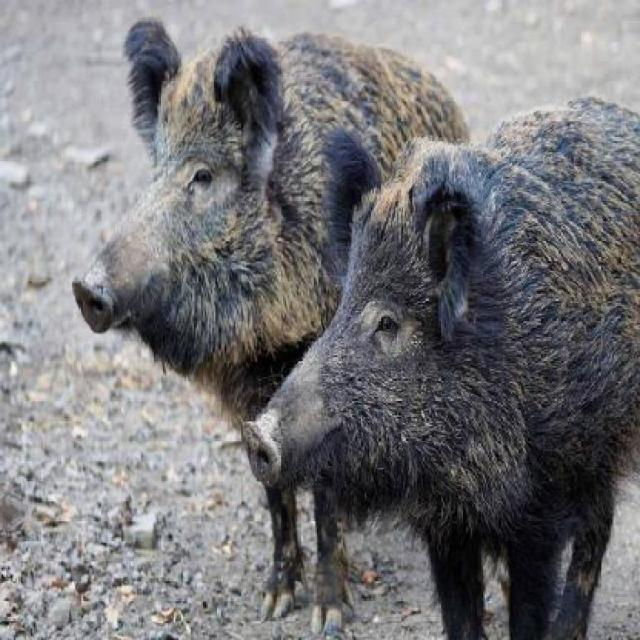wildboar: (65, 6, 492, 640), (232, 81, 639, 640)
